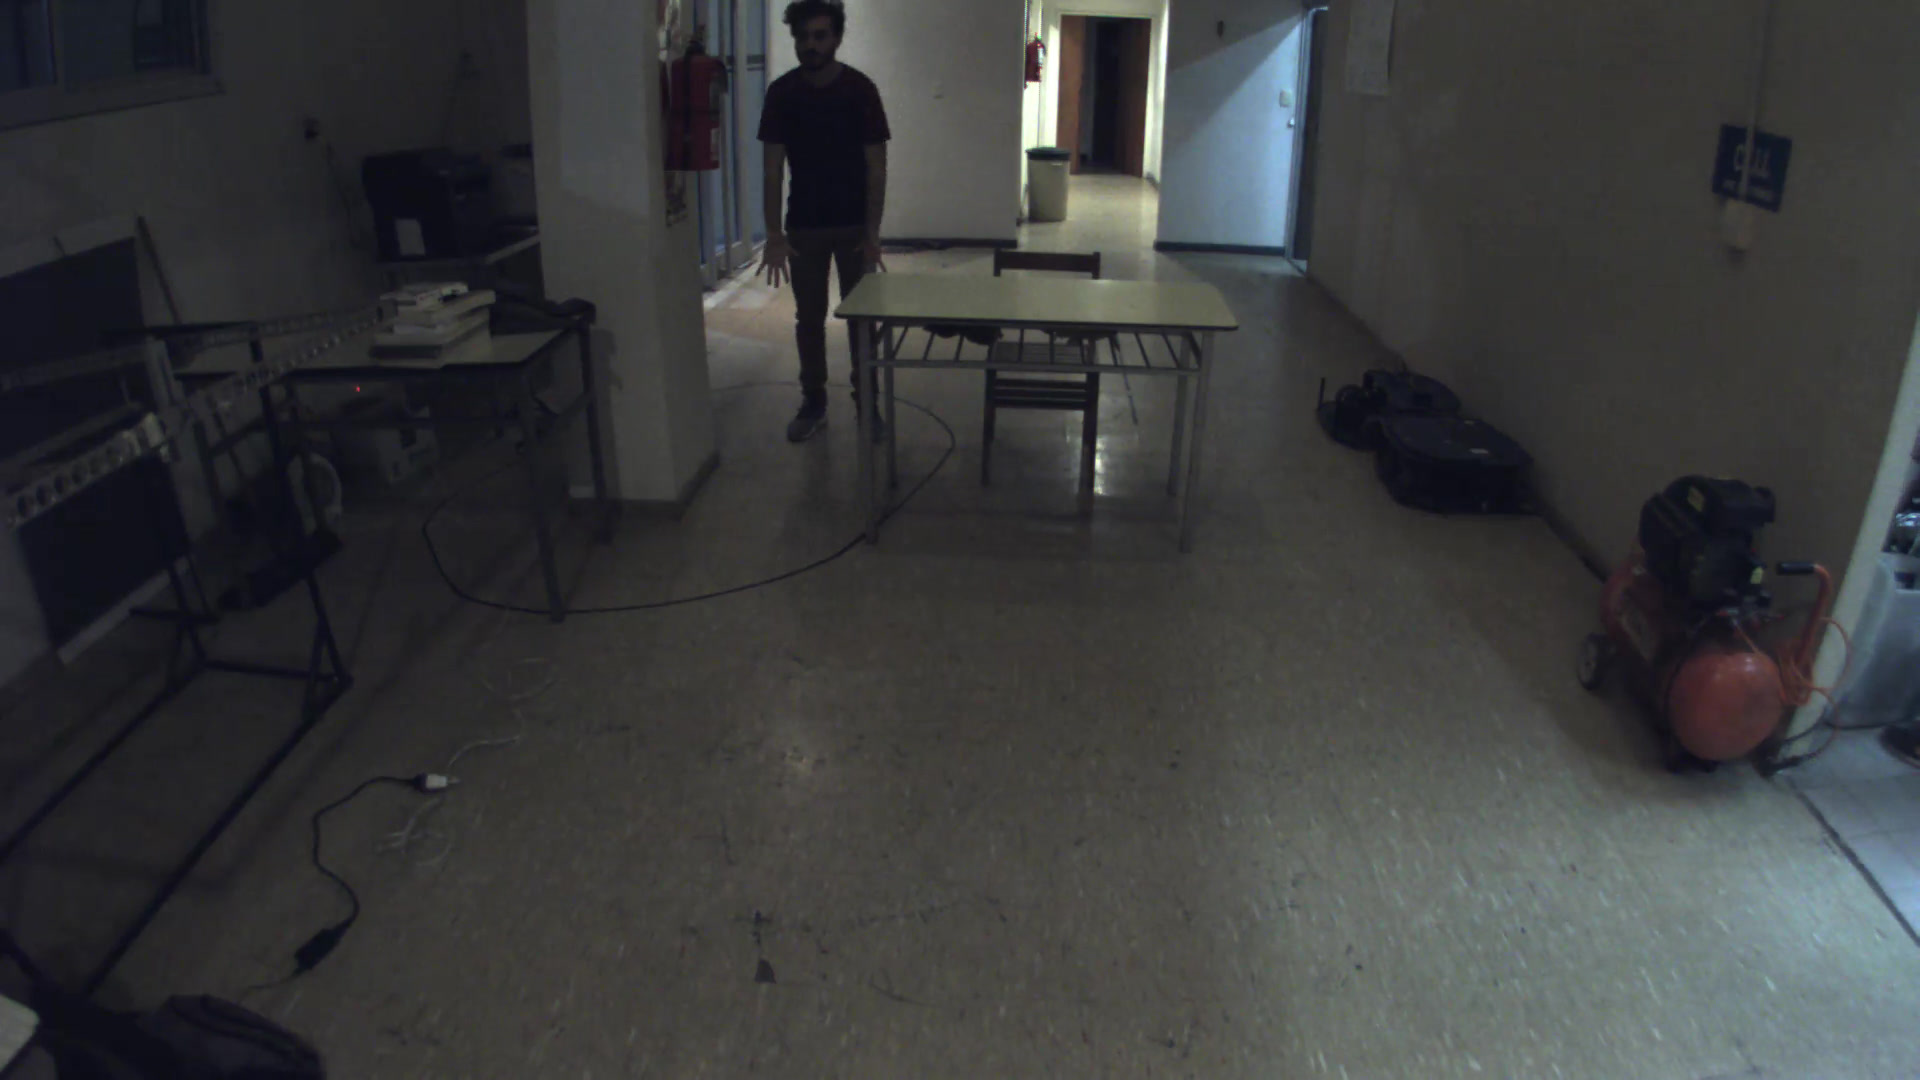hand: (744, 219, 798, 291), (853, 240, 913, 282)
